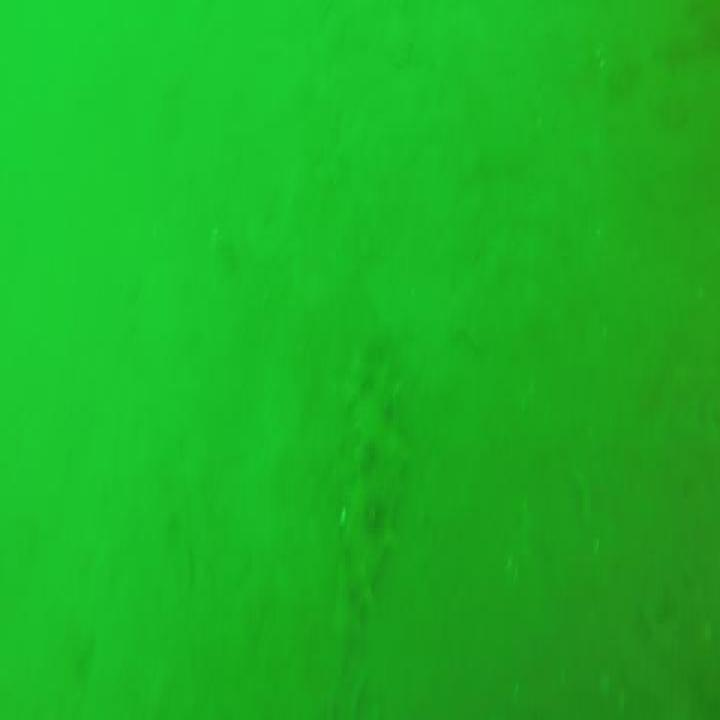holothurian: (333, 334, 404, 665)
